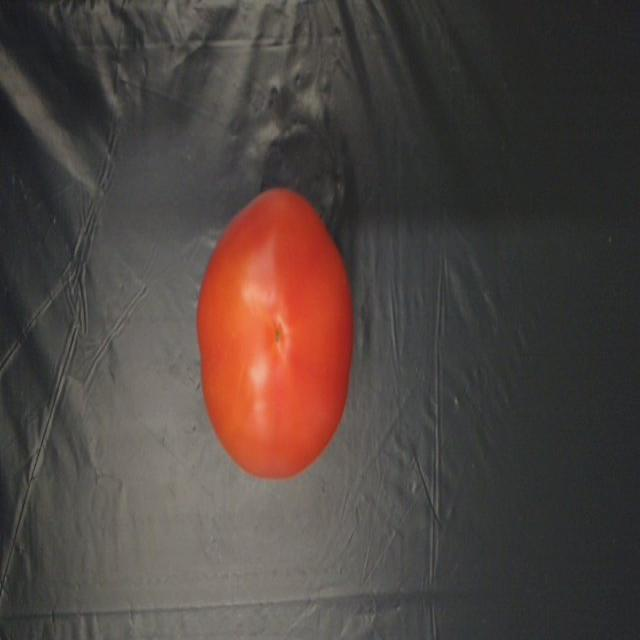kirmizi: (197, 172, 362, 496)
